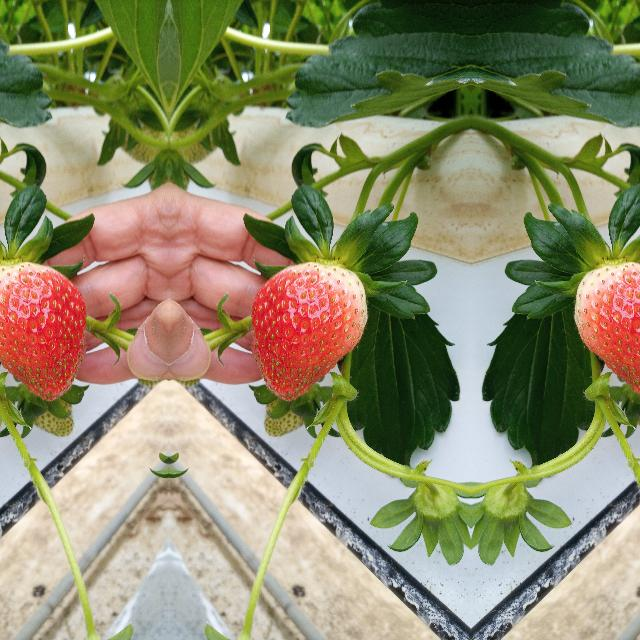Health_100: (249, 262, 367, 402), (0, 262, 87, 402), (574, 262, 640, 402)
